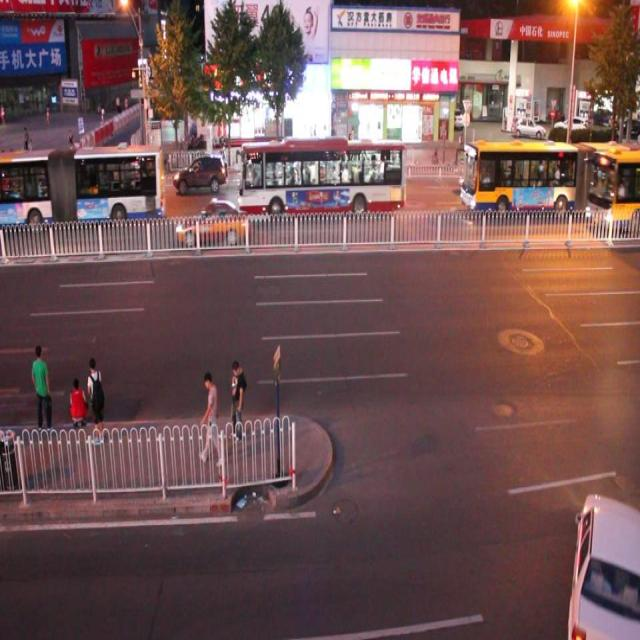car: (566, 480, 640, 640), (177, 200, 247, 246), (52, 180, 108, 223), (173, 152, 227, 192), (277, 153, 324, 192), (15, 177, 62, 213), (1, 167, 14, 203)
van: (460, 138, 640, 216), (1, 146, 164, 230), (239, 136, 404, 215), (585, 143, 640, 234)
